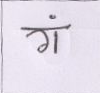anusvara: (50, 15, 56, 19)
